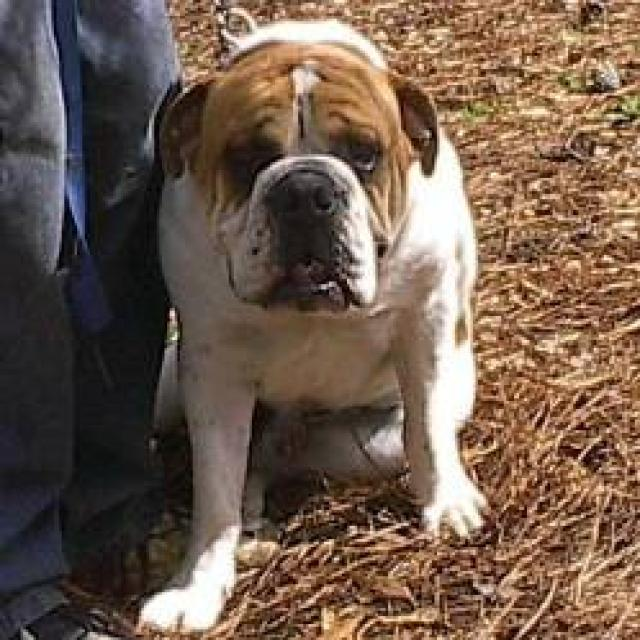dog: (134, 3, 491, 637)
